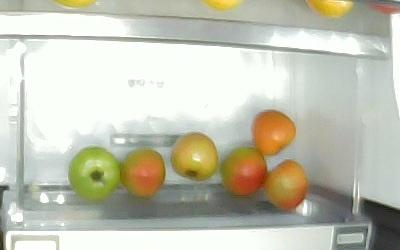tomato: (68, 147, 120, 200), (170, 132, 218, 181), (220, 147, 267, 195), (121, 149, 166, 198), (263, 159, 307, 209), (252, 110, 297, 158)
